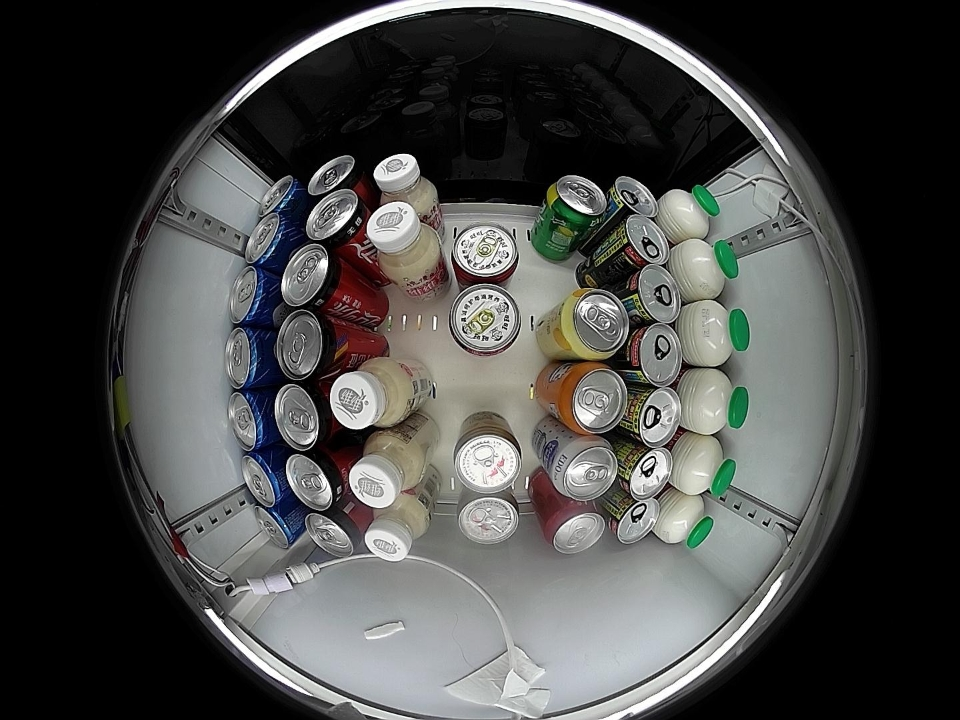fenda: (559, 363, 628, 436)
hongniu2: (453, 419, 523, 494), (457, 490, 520, 545)
kele: (543, 503, 606, 555)
lingdukele: (274, 309, 345, 381), (280, 244, 348, 312), (274, 381, 336, 451), (285, 447, 349, 511), (305, 190, 369, 250), (304, 505, 365, 557), (308, 155, 368, 200)
liziyuan: (682, 367, 750, 435), (682, 300, 750, 367), (672, 433, 737, 499), (673, 238, 739, 301), (659, 183, 720, 243), (655, 492, 715, 550)
mangguoxiaolao: (558, 288, 629, 361)
qingdaowangzi-2: (224, 326, 274, 389), (228, 266, 278, 326), (227, 389, 274, 451), (244, 214, 297, 268), (241, 450, 288, 506), (252, 503, 303, 549), (260, 175, 306, 219)
rusuanjunqishui: (548, 436, 619, 501)
wangzainiunai: (449, 284, 521, 357), (451, 222, 519, 290)
weiweidounai: (366, 200, 442, 282), (348, 431, 424, 509), (329, 359, 410, 430), (364, 496, 432, 562), (373, 153, 440, 218)
xuebi2: (544, 175, 607, 227)
yezhi: (626, 323, 682, 387), (626, 386, 682, 447), (626, 266, 682, 325), (619, 444, 673, 499), (616, 215, 670, 269), (607, 495, 659, 545), (607, 176, 658, 221)
